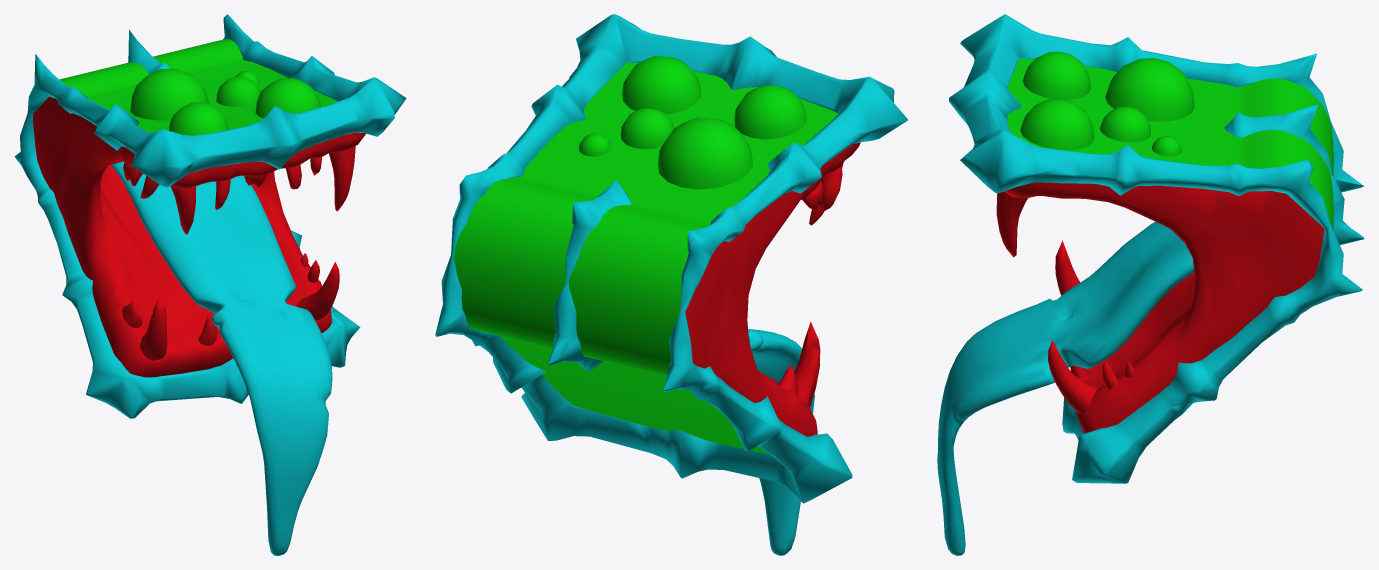
Rendered from book_low.fbx.
3 views of the same model, side by side, from view 1: azimuth 30°, elevation 25°; view 2: azimuth 150°, elevation 25°; view 3: azimuth 270°, elevation 25° (orthographic). The views are drawn at different scales.
Parts seen in each view (by area): view 1: tongue_low, rims_low, mouth_low, eyes_low, cover_low, teeth_low; view 2: cover_low, rims_low, eyes_low, mouth_low, tongue_low, teeth_low; view 3: rims_low, mouth_low, tongue_low, cover_low, eyes_low, teeth_low.
Boxes of the visible parts, <box> form: tongue_low: <box>111,161,332,555</box>; rims_low: <box>14,14,406,418</box>; mouth_low: <box>33,96,365,377</box>; eyes_low: <box>130,68,320,135</box>; cover_low: <box>59,39,338,132</box>; teeth_low: <box>122,146,355,360</box>; cover_low: <box>454,62,837,454</box>; rims_low: <box>435,14,907,503</box>; eyes_low: <box>579,56,806,189</box>; mouth_low: <box>685,142,860,436</box>; tongue_low: <box>748,329,814,555</box>; teeth_low: <box>778,163,843,407</box>; rims_low: <box>949,14,1364,483</box>; mouth_low: <box>1004,182,1324,433</box>; tongue_low: <box>937,221,1194,555</box>; cover_low: <box>1007,58,1333,229</box>; eyes_low: <box>1020,51,1194,156</box>; teeth_low: <box>996,191,1134,413</box>.
Bounding box in the file's own units: 228 × 344 × 272.
